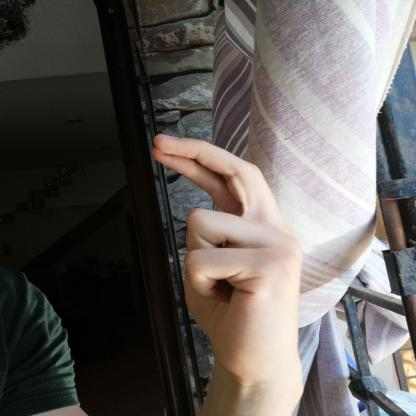ZAY: (135, 127, 317, 392)
